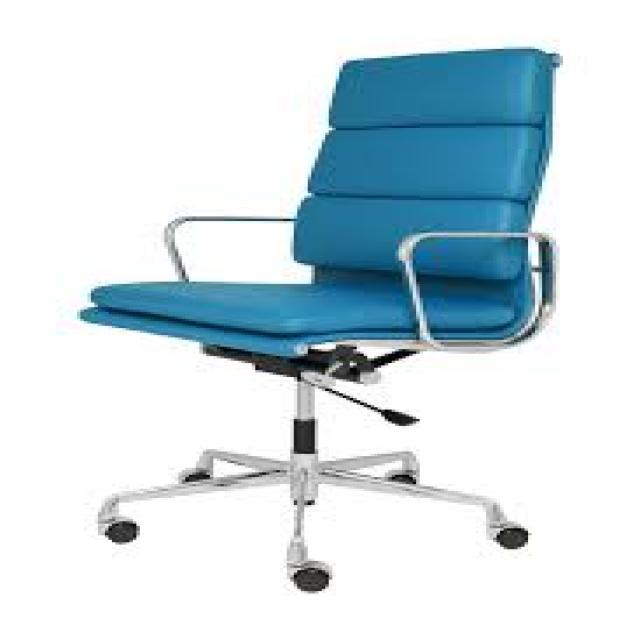chair: (68, 47, 552, 594)
